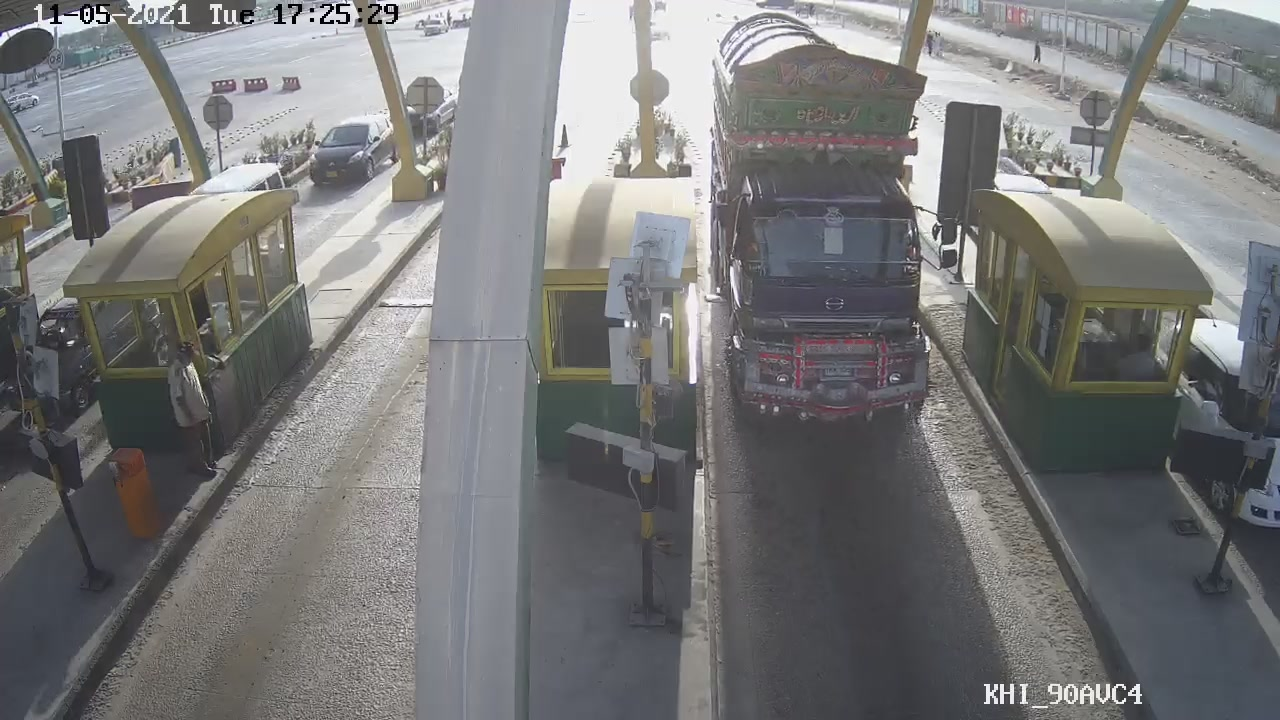F5: (692, 22, 937, 455)
